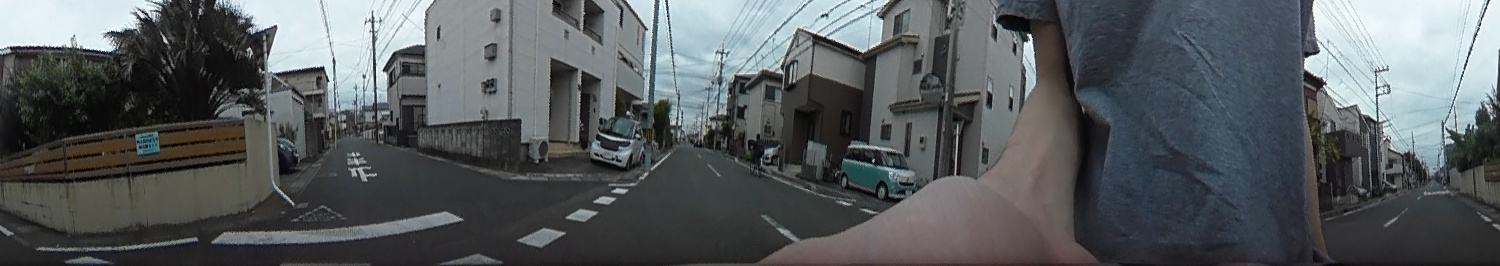difficult_person: (750, 131, 766, 173)
